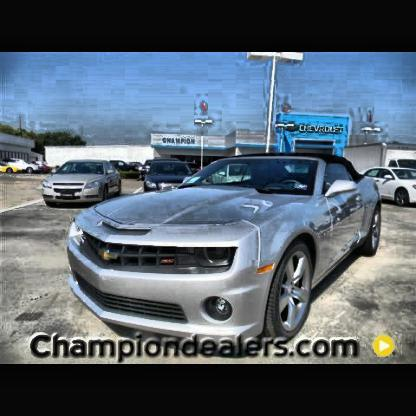Chevrolet Camaro Convertible 2012: (66, 155, 384, 344)
